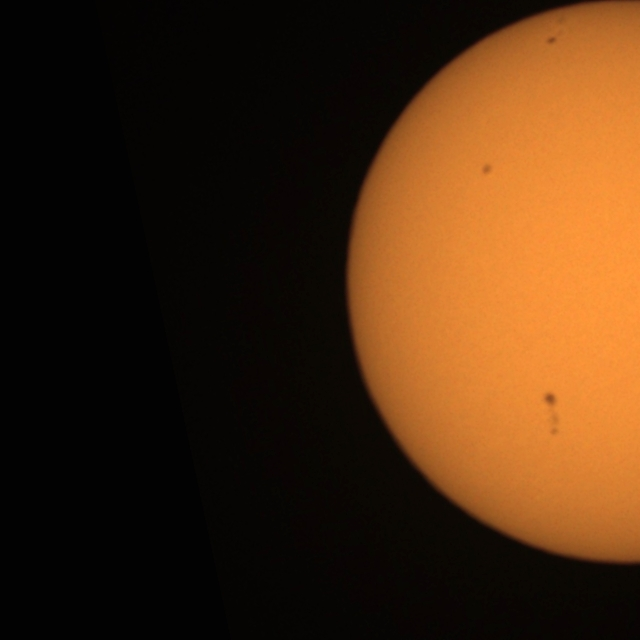sunspot: (546, 400, 562, 443), (541, 390, 559, 409), (548, 422, 562, 438), (480, 162, 494, 178), (545, 35, 558, 47)
